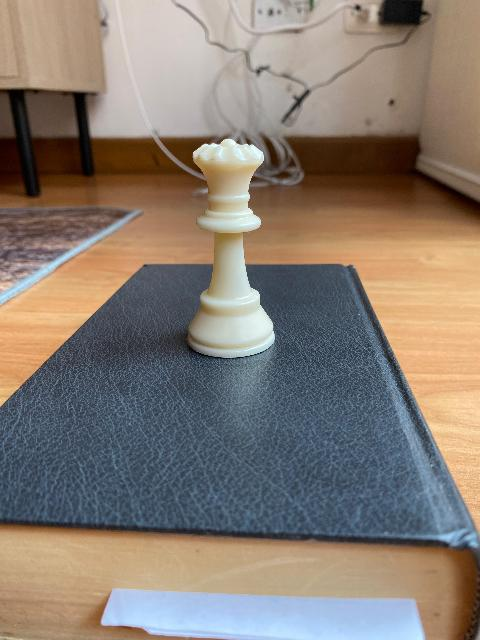white-queen: (186, 138, 276, 358)
